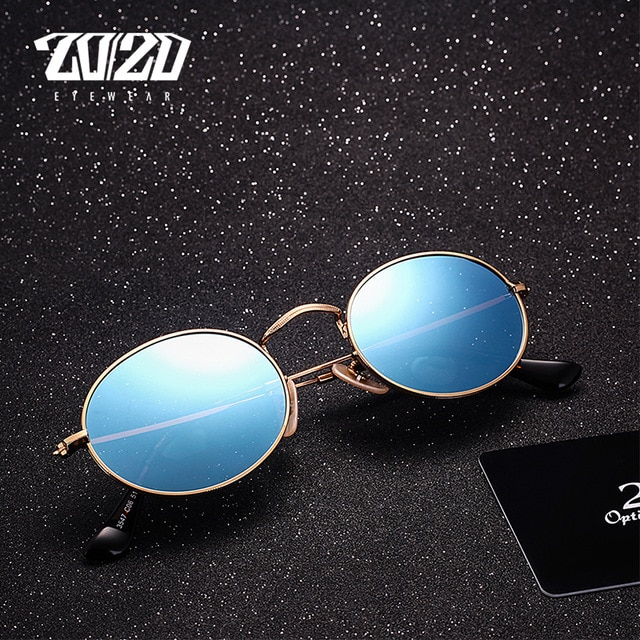sunglasses: (29, 233, 610, 542)
